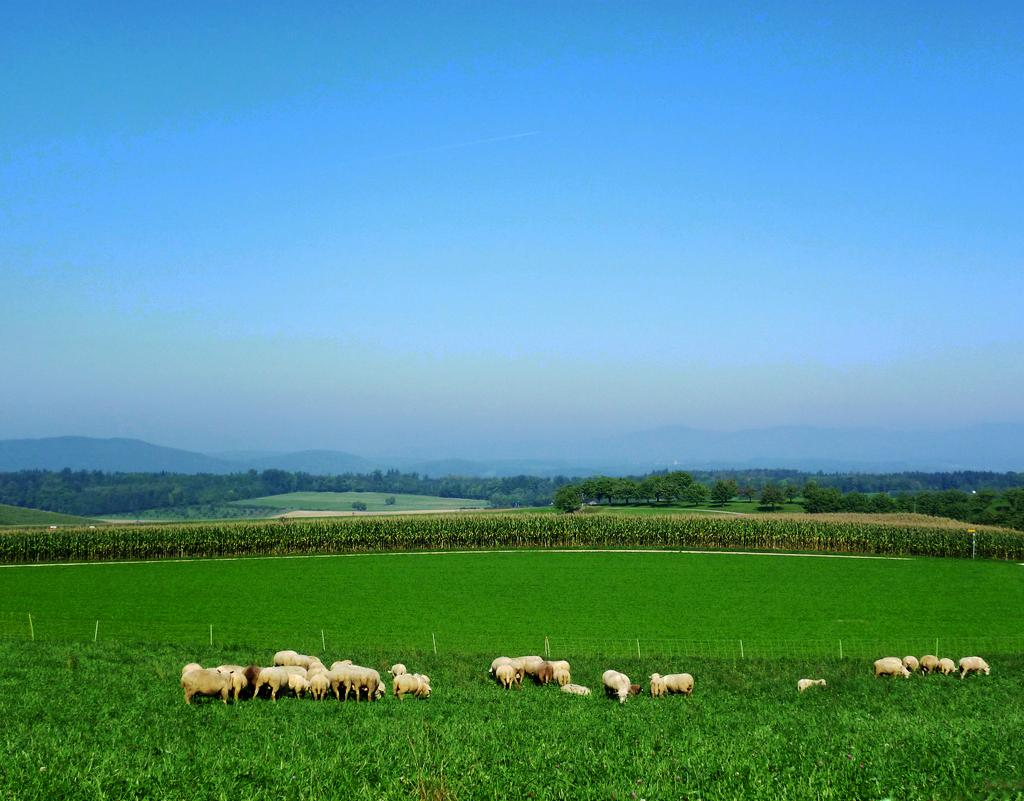Sheep: (182, 668, 227, 703), (253, 665, 289, 700), (392, 674, 433, 701), (600, 670, 630, 705), (872, 660, 913, 685), (351, 665, 379, 700), (328, 664, 351, 703), (662, 671, 694, 696), (959, 657, 992, 680), (494, 665, 513, 693), (536, 659, 553, 690), (309, 672, 327, 700), (647, 672, 665, 698), (508, 657, 524, 686), (938, 652, 956, 677), (920, 653, 940, 675), (800, 677, 828, 691), (902, 653, 920, 674), (557, 666, 572, 689)
